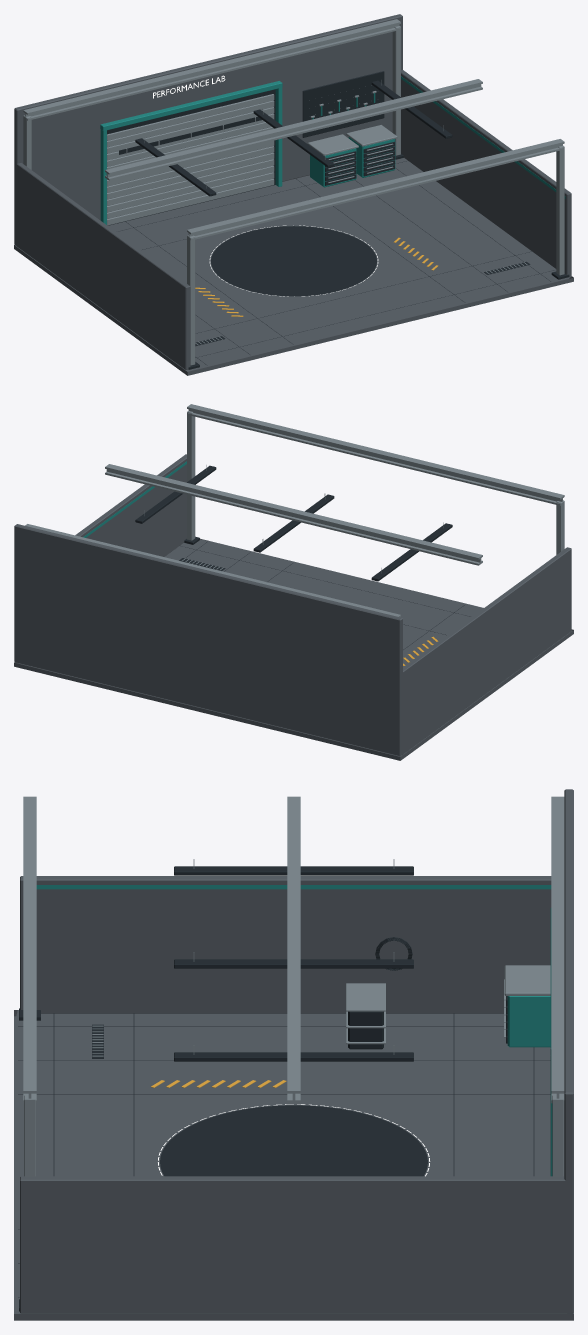
Rendered from ServiceShowroomBay.glb.
3 renders of one model, top to bottom at view 1: azimuth 30°, elevation 25°; view 2: azimuth 150°, elevation 25°; view 3: azimuth 270°, elevation 25°, orthographic. The views are drawn at different scales.
Parts seen in each view (by area): view 1: ServiceShowroomBay_Bay_Concrete, ServiceShowroomBay_Bay_Steel, ServiceShowroomBay_Bay_DarkFinish, ServiceShowroomBay_Bay_Teal, ServiceShowroomBay_Bay_LightStrip; view 2: ServiceShowroomBay_Bay_Concrete, ServiceShowroomBay_Bay_Steel, ServiceShowroomBay_Bay_DarkFinish; view 3: ServiceShowroomBay_Bay_Concrete, ServiceShowroomBay_Bay_DarkFinish, ServiceShowroomBay_Bay_Steel, ServiceShowroomBay_Bay_Teal.
Boxes of the visible parts, x1,y1,x2,y2 form: ServiceShowroomBay_Bay_Concrete: (14,14,573,375); ServiceShowroomBay_Bay_Steel: (23,19,564,365); ServiceShowroomBay_Bay_DarkFinish: (107,71,569,369); ServiceShowroomBay_Bay_Teal: (100,76,565,224); ServiceShowroomBay_Bay_LightStrip: (153,75,378,296); ServiceShowroomBay_Bay_Concrete: (14,454,573,760); ServiceShowroomBay_Bay_Steel: (25,404,564,617); ServiceShowroomBay_Bay_DarkFinish: (135,465,470,649); ServiceShowroomBay_Bay_Concrete: (14,789,573,1320); ServiceShowroomBay_Bay_DarkFinish: (18,866,550,1311); ServiceShowroomBay_Bay_Steel: (23,796,564,1176); ServiceShowroomBay_Bay_Teal: (36,885,552,1176).
Bounding box in the file's own units: 18 × 6.28 × 14.
